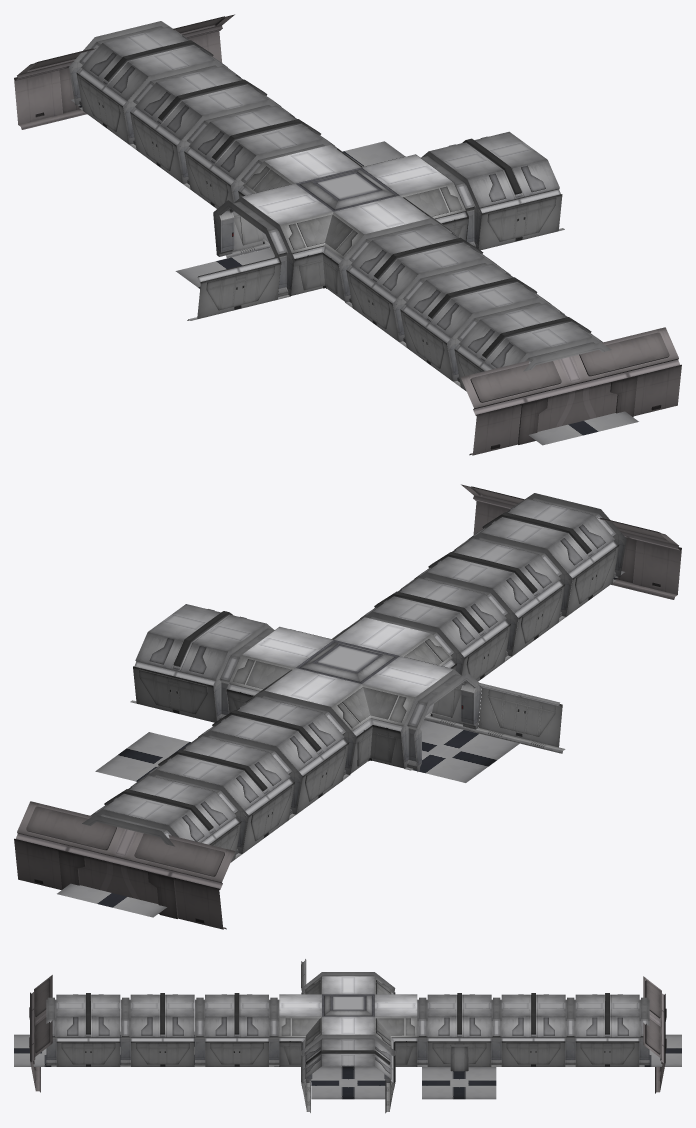
File: env_kam_hallway_01_pre.glb
3 renders of one model, top to bottom at view 1: azimuth 30°, elevation 25°; view 2: azimuth 150°, elevation 25°; view 3: azimuth 270°, elevation 25°, orthographic. The views are drawn at different scales.
Visible parts, largest first — view 1: kam_ceiling_01a_mesh (×3), kam_wall_06_mesh, kam_ceiling_01a_mesh (1) (×2), kam_ceiling_01a_mesh (2) (×2), kam_wall_04_mesh (×3), kam_arch_01_mesh (1) (×4), kam_wall_06_mesh (1), kam_wall_05_mesh, kam_ceiling_01c_mesh (×2), kam_wall_05_mesh (1) (×2), kam_ceiling_01b_mesh, kam_arch_01_mesh (×2) (+12 smaller); view 2: kam_ceiling_01a_mesh (×3), kam_wall_06_mesh (1), kam_ceiling_01a_mesh (1) (×2), kam_ceiling_01a_mesh (2) (×2), kam_arch_01_mesh (1) (×4), kam_wall_04_mesh (×2), kam_wall_04_mesh (1) (×2), kam_wall_06_mesh, kam_wall_05_mesh (1), kam_ceiling_01c_mesh (×2), kam_wall_05_mesh (×2), kam_floor_01_mesh (8) (+12 smaller); view 3: kam_ceiling_01a_mesh (×3), kam_ceiling_01a_mesh (1) (×2), kam_ceiling_01a_mesh (2) (×2), kam_arch_01_mesh (1) (×4), kam_floor_01_mesh (4), kam_floor_01_mesh (7), kam_wall_04_mesh (1) (×2), kam_wall_door_01_mesh, kam_ceiling_01c_mesh (×2), kam_wall_04_mesh (5), kam_wall_04_mesh (2), kam_wall_04_mesh (4) (+13 smaller).
Boxes of the visible parts, x1,y1,x2,y2 form: kam_ceiling_01a_mesh (×3): (189, 105, 559, 298); kam_wall_06_mesh: (460, 327, 681, 455); kam_ceiling_01a_mesh (1) (×2): (135, 66, 554, 337); kam_ceiling_01a_mesh (2) (×2): (81, 26, 602, 369); kam_wall_04_mesh (×3): (187, 188, 564, 344); kam_arch_01_mesh (1) (×4): (213, 139, 481, 303); kam_wall_06_mesh (1): (14, 14, 234, 129); kam_wall_05_mesh: (280, 211, 364, 305); kam_ceiling_01c_mesh (×2): (264, 145, 430, 234); kam_wall_05_mesh (1) (×2): (226, 161, 468, 258); kam_ceiling_01b_mesh: (295, 167, 399, 211); kam_arch_01_mesh (×2): (176, 100, 512, 342); kam_ceiling_01a_mesh (×3): (135, 578, 506, 770); kam_wall_06_mesh (1): (14, 801, 235, 929); kam_ceiling_01a_mesh (1) (×2): (138, 538, 560, 810); kam_ceiling_01a_mesh (2) (×2): (90, 498, 614, 842); kam_arch_01_mesh (1) (×4): (213, 611, 481, 775); kam_wall_04_mesh (×2): (460, 620, 565, 753); kam_wall_04_mesh (1) (×2): (130, 660, 349, 817); kam_wall_06_mesh: (461, 484, 681, 599); kam_wall_05_mesh (1): (331, 684, 415, 777); kam_ceiling_01c_mesh (×2): (264, 617, 430, 706); kam_wall_05_mesh (×2): (226, 633, 469, 730); kam_floor_01_mesh (8): (413, 720, 519, 782); kam_ceiling_01a_mesh (×3): (205, 993, 491, 1079); kam_ceiling_01a_mesh (1) (×2): (130, 993, 565, 1037); kam_ceiling_01a_mesh (2) (×2): (56, 993, 639, 1037); kam_arch_01_mesh (1) (×4): (269, 972, 427, 1082); kam_floor_01_mesh (4): (422, 1067, 496, 1099); kam_floor_01_mesh (7): (311, 1067, 385, 1099); kam_wall_04_mesh (1) (×2): (200, 1037, 395, 1113); kam_wall_door_01_mesh: (422, 1037, 496, 1071); kam_ceiling_01c_mesh (×2): (279, 994, 417, 1016); kam_wall_04_mesh (5): (51, 1037, 125, 1066); kam_wall_04_mesh (2): (496, 1037, 570, 1066); kam_wall_04_mesh (4): (570, 1037, 644, 1066).
Bounding box in the file's own units: 35.62 × 7.47 × 80.04.
Materials: 8 (8 with a texture image).
